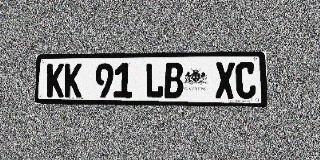1: (114, 63, 132, 98)
9: (95, 63, 113, 98)
B: (164, 62, 183, 98)
C: (235, 62, 256, 99)
K: (64, 63, 82, 97), (47, 63, 64, 97)
L: (145, 63, 164, 98)
X: (215, 62, 235, 99)
